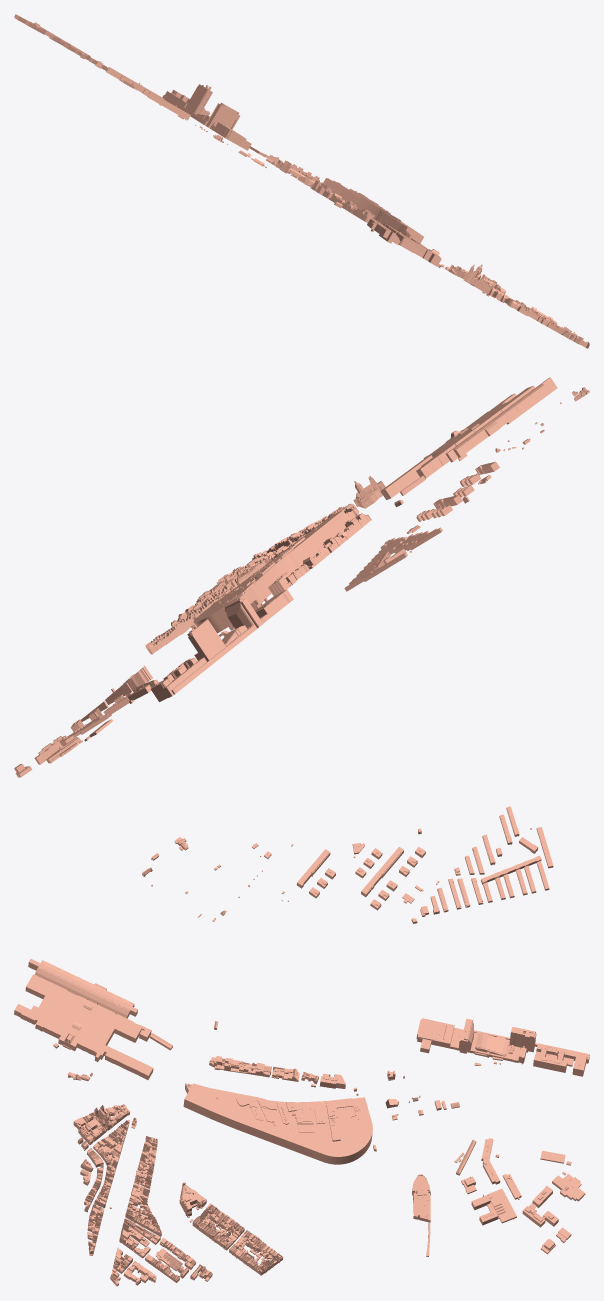
3 renders of one model, top to bottom at view 1: azimuth 30°, elevation 25°; view 2: azimuth 150°, elevation 25°; view 3: azimuth 270°, elevation 25°, orthographic. The views are drawn at different scales.
Bounding box in the file's own units: 3.6e+07 × 2.57e+07 × 4.6e+07.
